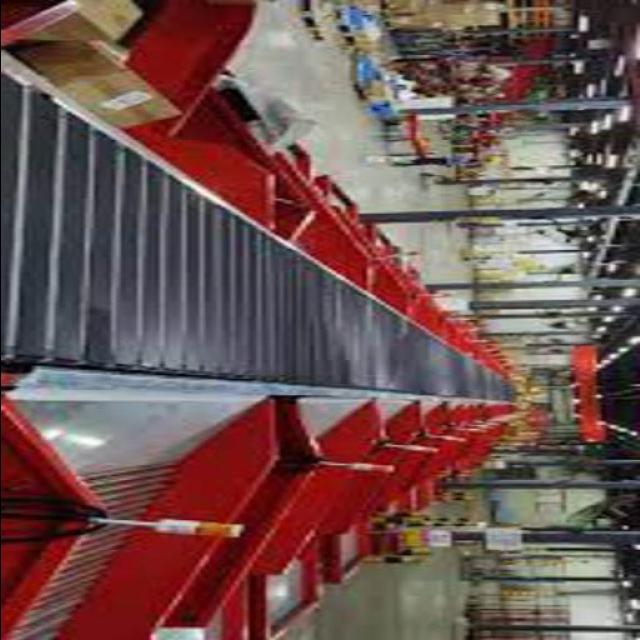conveyor: (0, 49, 522, 402)
